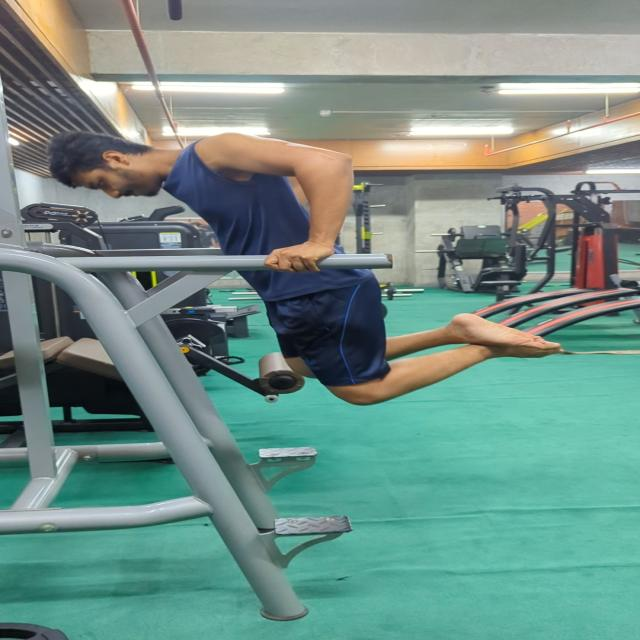Normal_Dips: (45, 122, 567, 411)
